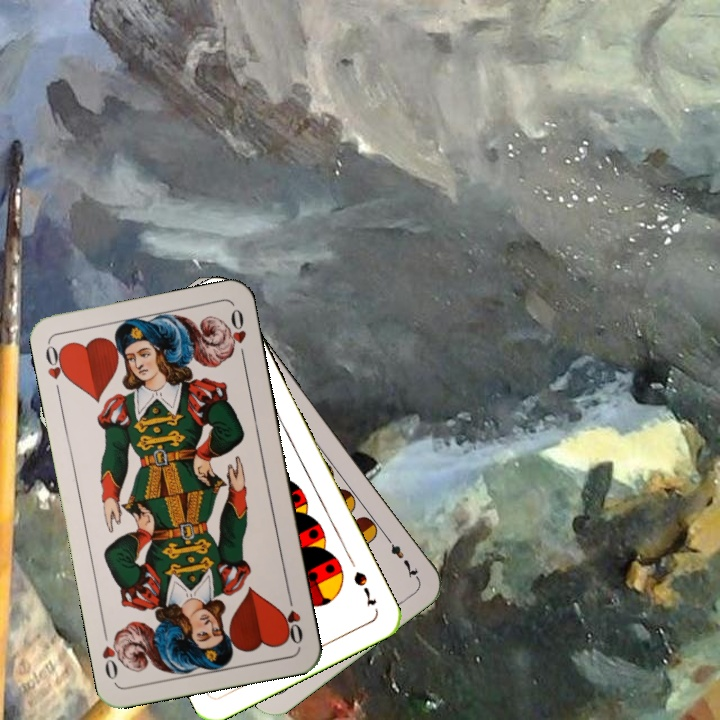E7: (381, 531, 422, 582)
HO: (41, 340, 72, 398), (278, 589, 306, 647)
S7: (349, 567, 379, 610)
